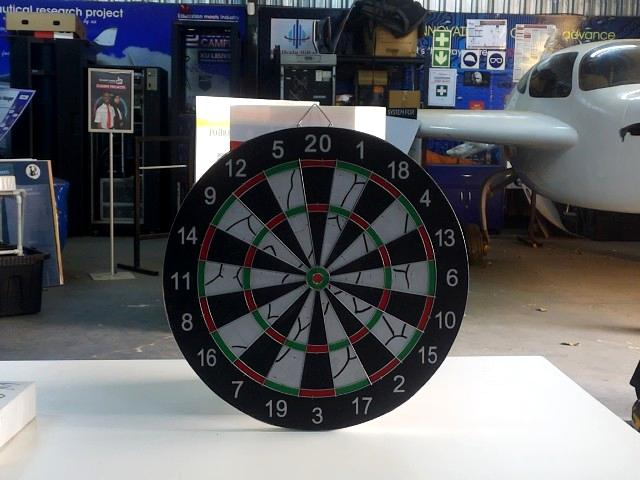double_12: (235, 176, 261, 195)
double_13: (419, 225, 436, 261)
double_16: (214, 335, 239, 366)
double_17: (335, 378, 371, 396)
